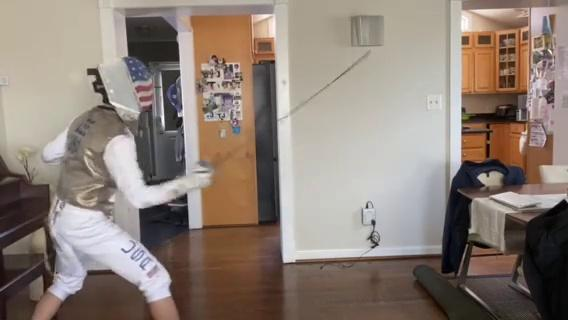blade-guard: (201, 160, 221, 185)
blade-tip: (334, 49, 373, 82)
fencing-blade: (194, 47, 376, 188)
